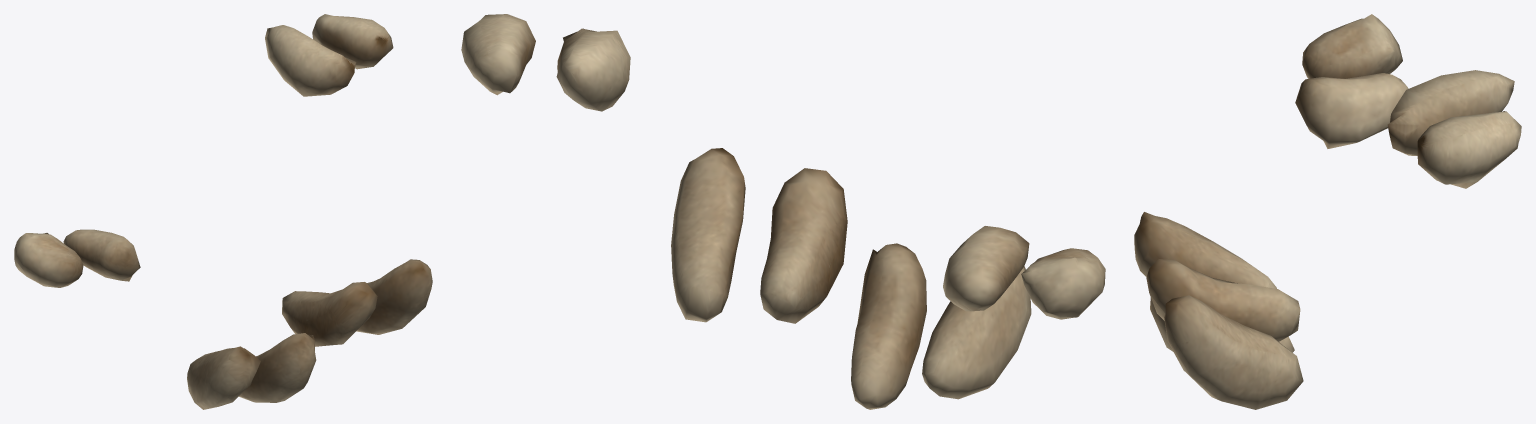
File: Proximal Sesamoid.glb
3 renders of one model, left to right at view 1: azimuth 30°, elevation 25°; view 2: azimuth 150°, elevation 25°; view 3: azimuth 270°, elevation 25°, orthographic. The views are drawn at different scales.
Visible parts, largest first — view 1: polySurface62, polySurface60, polySurface61, polySurface63, polySurface64, polySurface59, polySurface66, polySurface65; view 2: polySurface62, polySurface61, polySurface63, polySurface64, polySurface65, polySurface60, polySurface59, polySurface66; view 3: polySurface61, polySurface62, polySurface65, polySurface59, polySurface60, polySurface64, polySurface66, polySurface63.
Boxes of the visible parts, <box> form: polySurface62: <box>282,282,377,346</box>; polySurface60: <box>265,25,356,96</box>; polySurface61: <box>356,259,432,334</box>; polySurface63: <box>239,333,316,402</box>; polySurface64: <box>187,346,260,409</box>; polySurface59: <box>312,14,393,69</box>; polySurface66: <box>14,233,83,287</box>; polySurface65: <box>63,229,140,281</box>; polySurface62: <box>760,168,847,323</box>; polySurface61: <box>671,148,745,322</box>; polySurface63: <box>851,243,926,409</box>; polySurface64: <box>922,266,1031,399</box>; polySurface65: <box>943,226,1029,311</box>; polySurface60: <box>556,28,630,111</box>; polySurface59: <box>461,14,535,95</box>; polySurface66: <box>1021,248,1105,319</box>; polySurface61: <box>1164,295,1303,409</box>; polySurface62: <box>1146,259,1300,341</box>; polySurface65: <box>1295,73,1408,148</box>; polySurface59: <box>1417,111,1521,188</box>; polySurface60: <box>1387,70,1514,155</box>; polySurface64: <box>1134,212,1276,288</box>; polySurface66: <box>1302,14,1402,78</box>; polySurface63: <box>1150,297,1294,352</box>.
Bounding box in the file's own units: 34.08 × 22.5 × 20.94.
Materials: 1 (1 with a texture image).
